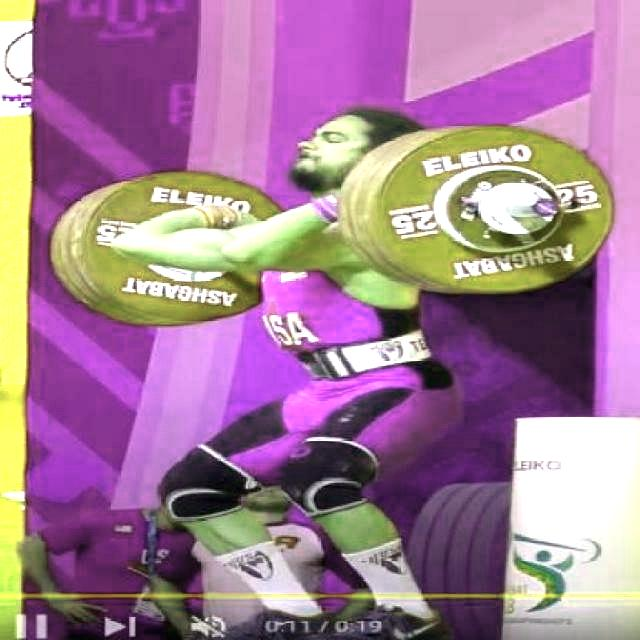barbell: (337, 121, 625, 303)
